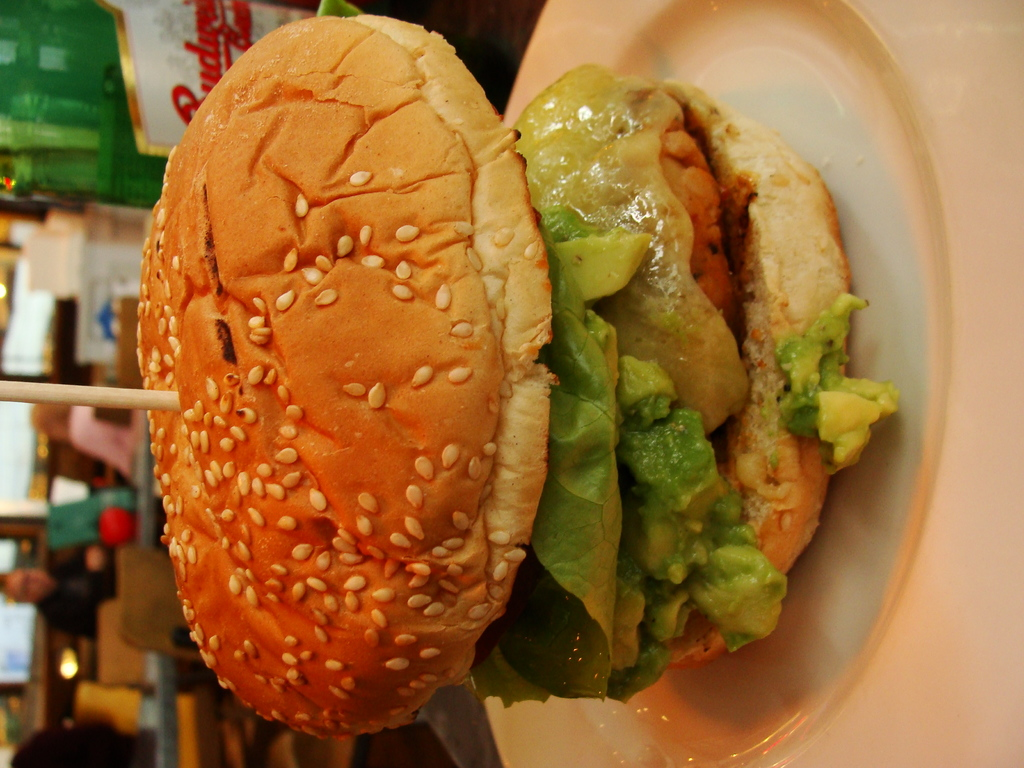Hamburger: (149, 0, 896, 740)
